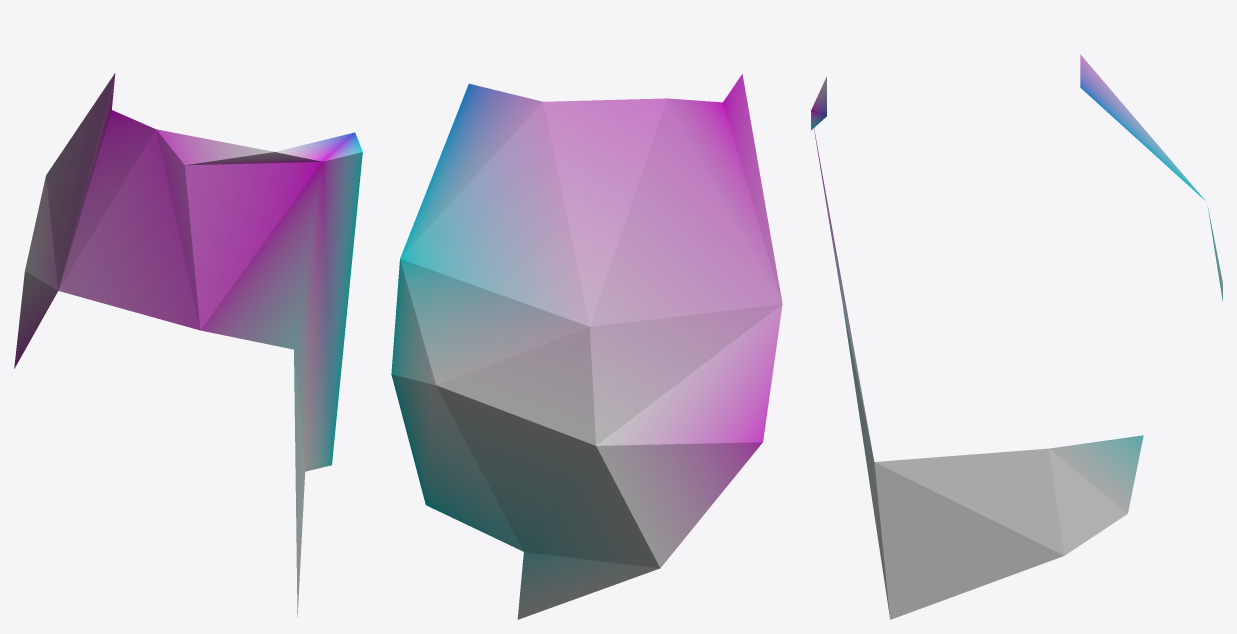
3 views of the same model, side by side, from view 1: azimuth 30°, elevation 25°; view 2: azimuth 150°, elevation 25°; view 3: azimuth 270°, elevation 25° (orthographic). The views are drawn at different scales.
Parts seen in each view (by area): view 1: model_11AB; view 2: model_11AB; view 3: model_11AB.
Boxes of the visible parts, box(x1,y1,x2,y2) form: model_11AB: box(14, 73, 362, 617); model_11AB: box(391, 74, 782, 619); model_11AB: box(811, 54, 1222, 619).
Bounding box in the file's own units: 18 × 38 × 26.
